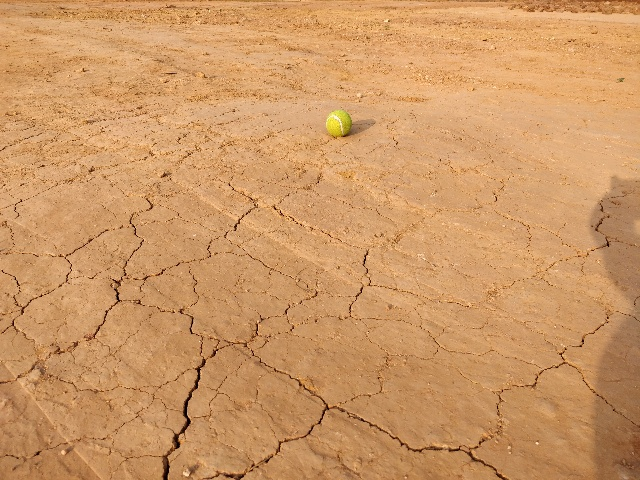ball: (321, 110, 352, 139)
